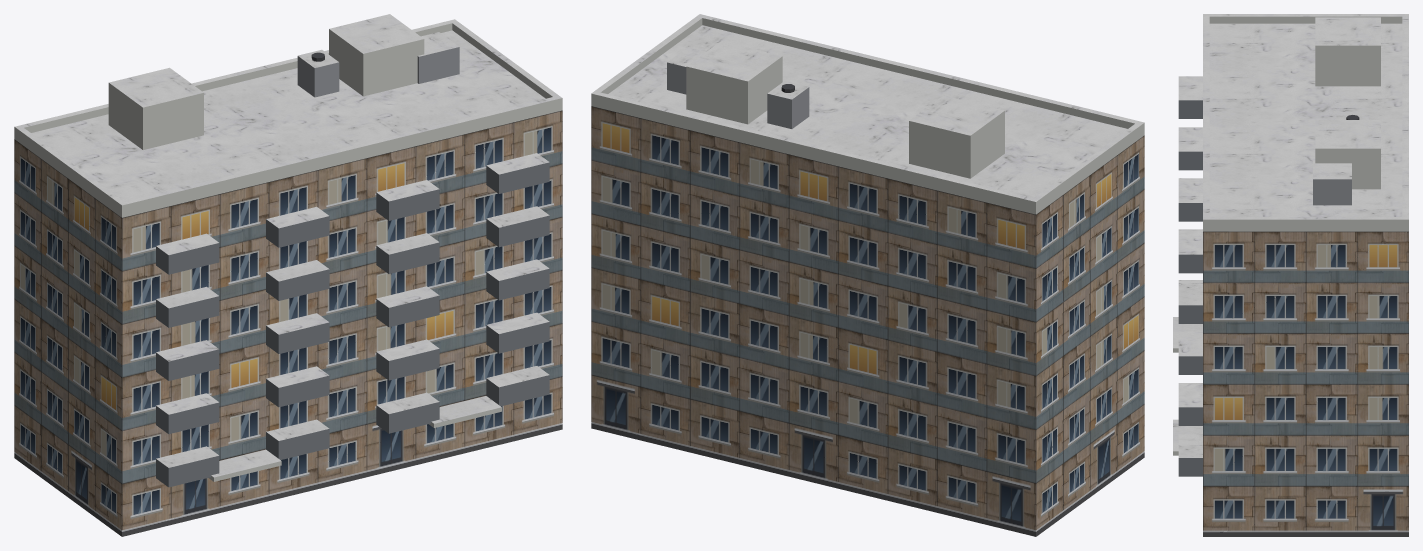
The model's file is c_apartment.glb.
The picture shows the model from 3 angles, left to right: view 1: azimuth 30°, elevation 25°; view 2: azimuth 150°, elevation 25°; view 3: azimuth 270°, elevation 25°; orthographic projection. The views are drawn at different scales.
Parts seen in each view (by area): view 1: House; view 2: House; view 3: House.
Part boxes in pixels (x1,y1,x2,y2): House: (14, 14, 562, 536); House: (591, 14, 1144, 536); House: (1173, 14, 1408, 536).
Bounding box in the file's own units: 26 × 20.7 × 12.6.
Materials: 3 (3 with a texture image).
